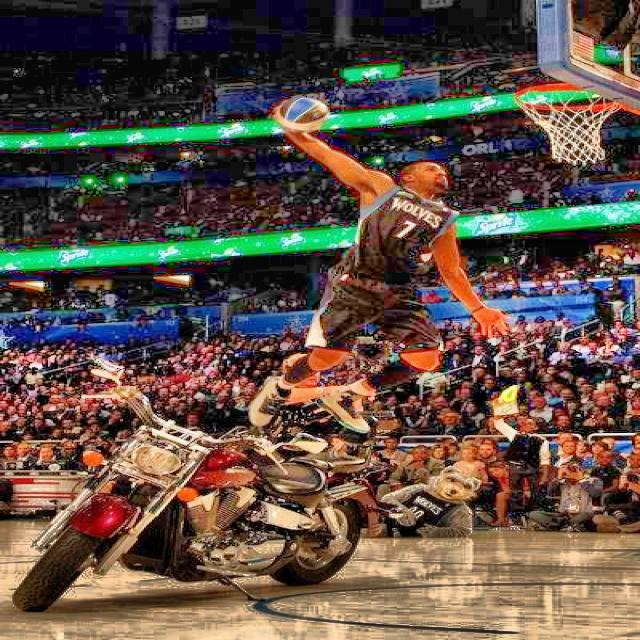board: (276, 95, 329, 133)
rim: (508, 83, 615, 163)
